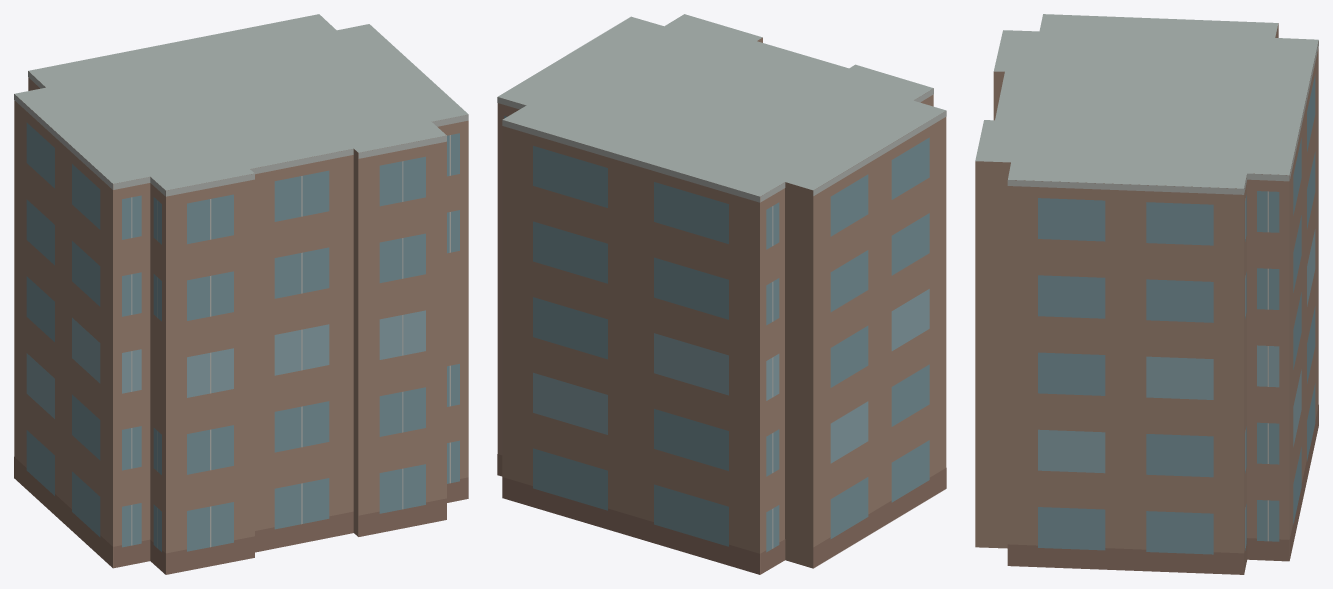
Rendered from survey-upis-32705394.glb.
The picture shows the model from 3 angles, left to right: view 1: azimuth 30°, elevation 25°; view 2: azimuth 150°, elevation 25°; view 3: azimuth 270°, elevation 25°; orthographic projection. The views are drawn at different scales.
Parts seen in each view (by area): view 1: survey-upis-32705394.tmp; view 2: survey-upis-32705394.tmp; view 3: survey-upis-32705394.tmp.
Boxes of the visible parts, x1,y1,x2,y2 form: survey-upis-32705394.tmp: [14, 14, 468, 574]; survey-upis-32705394.tmp: [497, 14, 946, 574]; survey-upis-32705394.tmp: [975, 14, 1318, 574].
Size of the model in its own units: 14.81 by 15.25 by 12.31.
